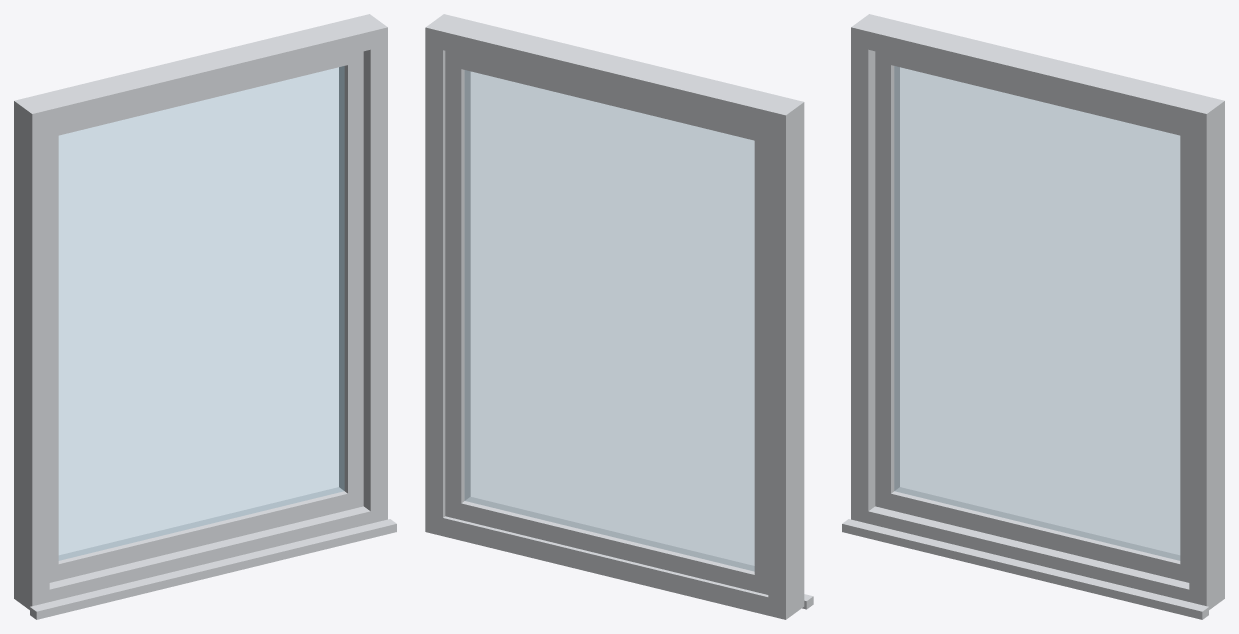
The model's file is window_casement_36x48.far.glb.
3 renders of one model, left to right at view 1: azimuth 30°, elevation 25°; view 2: azimuth 150°, elevation 25°; view 3: azimuth 330°, elevation 25°, orthographic.
Parts seen in each view (by area): view 1: sash_window_casement_36x48, window_casement_36x48; view 2: sash_window_casement_36x48, window_casement_36x48; view 3: sash_window_casement_36x48, window_casement_36x48.
Boxes of the visible parts, x1,y1,x2,y2 form: sash_window_casement_36x48: (49, 51, 363, 582); window_casement_36x48: (14, 14, 396, 619); sash_window_casement_36x48: (445, 51, 768, 594); window_casement_36x48: (425, 14, 813, 619); sash_window_casement_36x48: (875, 51, 1189, 582); window_casement_36x48: (842, 14, 1224, 619).
Size of the model in its own units: 0.9144 by 1.21 by 0.1093.
